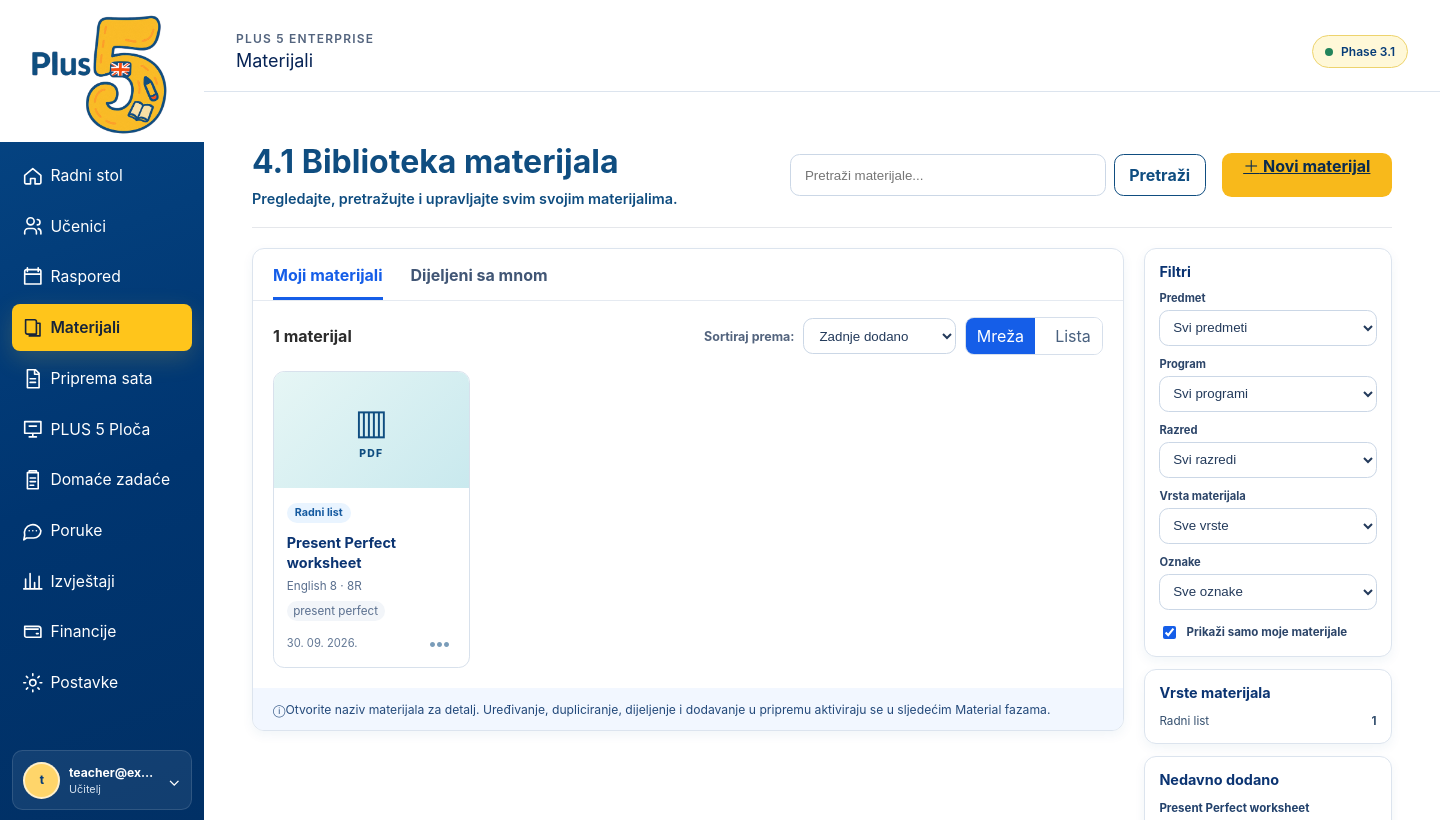
Test: material library › switches to server-authorized shared scope and shows its empty state
The width and height of the screenshot is (1440, 820).
Expected: the heading "Present Perfect worksheet" is shown, [287, 534, 396, 571]
Click the tab "Dijeljeni sa mnom".
click(479, 274)  # box [410, 249, 548, 300]
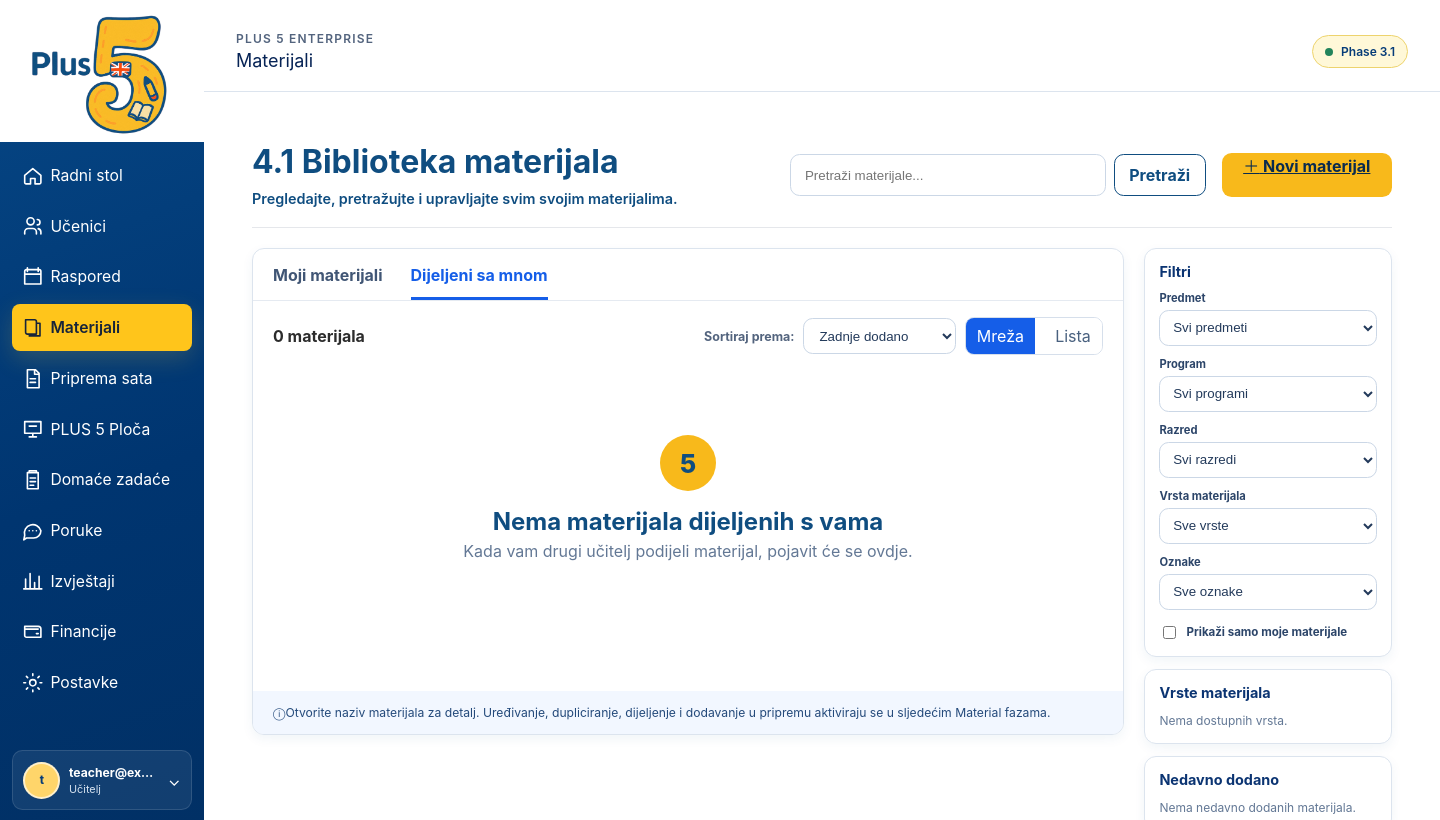
Now the heading "Nema materijala dijeljenih s vama" is shown, box [493, 507, 883, 536]
